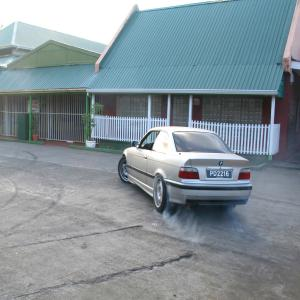Vehicle-registration-plate: (207, 170, 233, 181)
